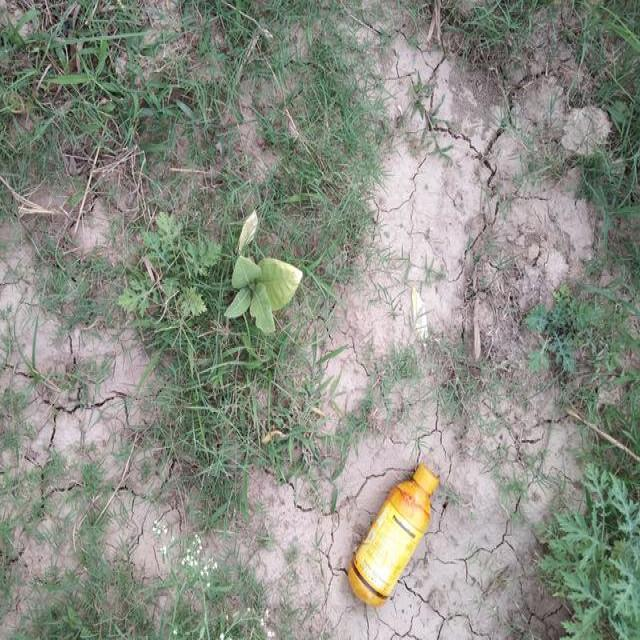crop: (223, 192, 303, 341)
